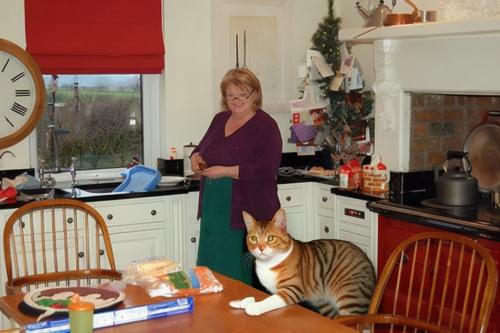cat: (240, 209, 384, 316)
chair: (338, 234, 498, 333), (4, 200, 125, 296)
diningtable: (4, 266, 366, 333)
person: (191, 68, 284, 295)
person/hand: (200, 166, 224, 179), (190, 152, 204, 172)
person/head: (226, 69, 257, 113)
